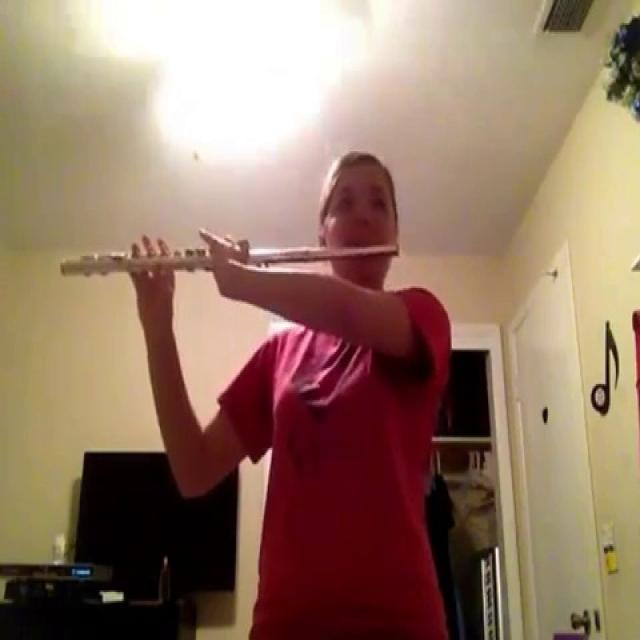Flute: (45, 224, 419, 292)
